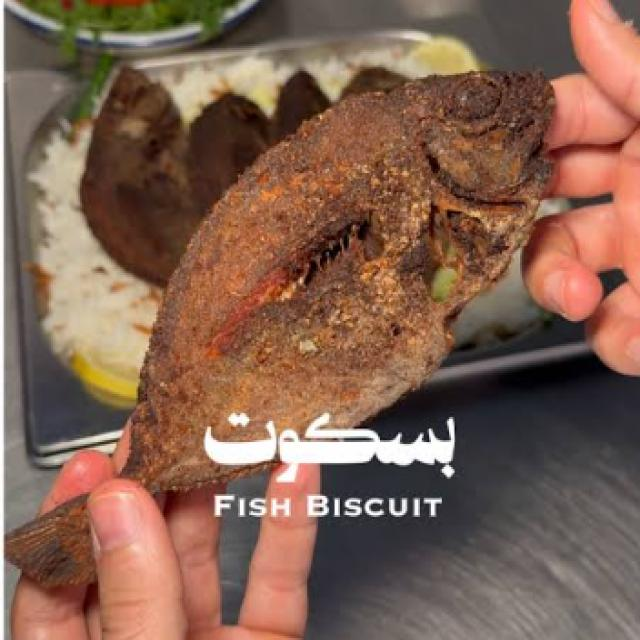Fried Fish: (0, 38, 609, 592)
